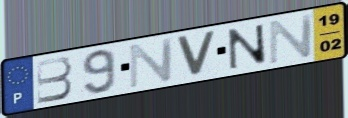9: (80, 47, 118, 96)
B: (34, 55, 75, 105)
N: (267, 11, 316, 66), (127, 35, 176, 90), (226, 22, 270, 71)
V: (173, 30, 219, 78)
